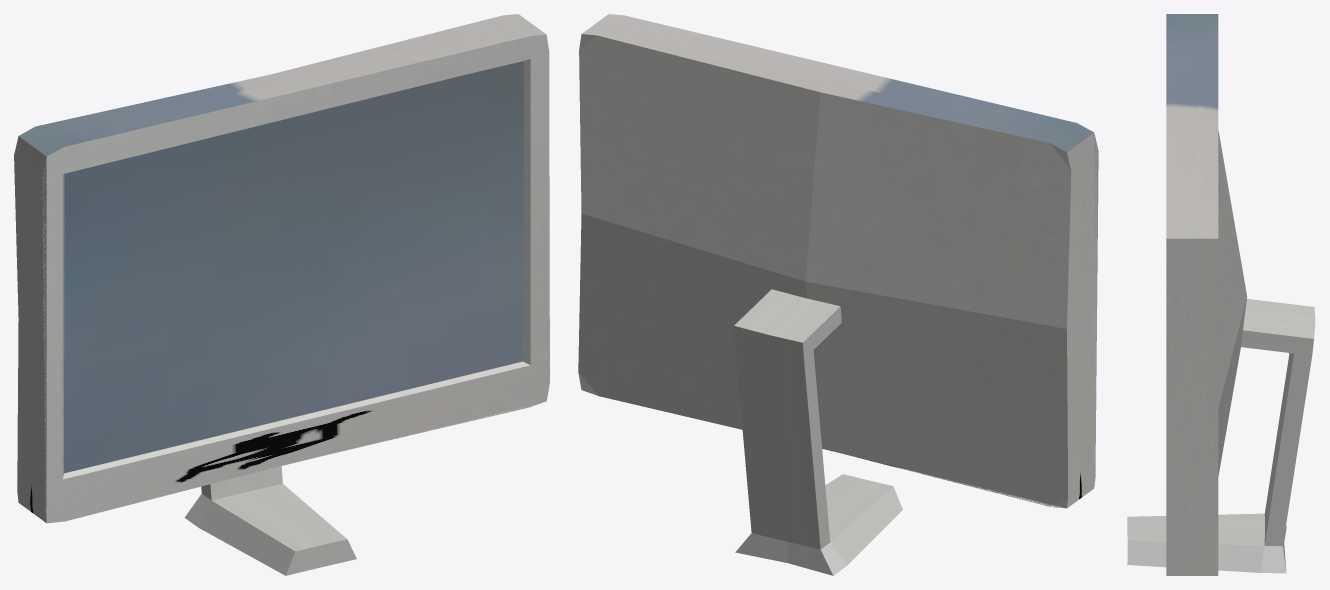
The model's file is desktop.fbx.
3 views of the same model, side by side, from view 1: azimuth 30°, elevation 25°; view 2: azimuth 150°, elevation 25°; view 3: azimuth 270°, elevation 25° (orthographic). The views are drawn at different scales.
Parts seen in each view (by area): view 1: Cube; view 2: Cube; view 3: Cube.
Boxes of the visible parts, x1=… form: Cube: x1=14, y1=14, x2=549, y2=575; Cube: x1=578, y1=14, x2=1098, y2=575; Cube: x1=1127, y1=14, x2=1315, y2=575.
Bounding box in the file's own units: 290 × 253 × 101.
